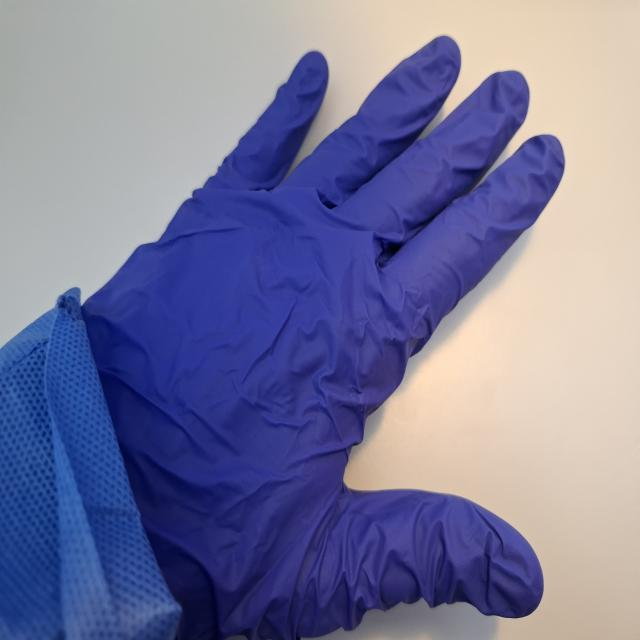glove_on: (76, 30, 568, 640)
